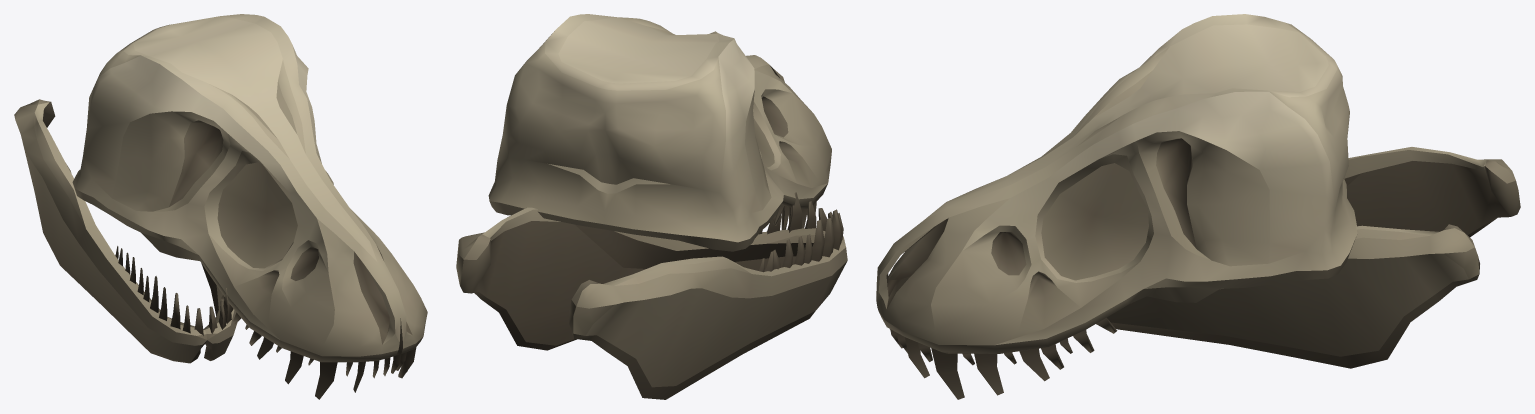
The model's file is Giant_Skull_3A.fbx.
3 views of the same model, side by side, from view 1: azimuth 30°, elevation 25°; view 2: azimuth 150°, elevation 25°; view 3: azimuth 270°, elevation 25° (orthographic). The views are drawn at different scales.
Visible parts, largest first — view 1: Giant_Skull_3A; view 2: Giant_Skull_3A; view 3: Giant_Skull_3A.
Part boxes in pixels (x1,y1,x2,y2): Giant_Skull_3A: (14, 14, 427, 399); Giant_Skull_3A: (456, 14, 847, 399); Giant_Skull_3A: (876, 14, 1520, 399).
Bounding box in the file's own units: 110 × 127 × 243.
